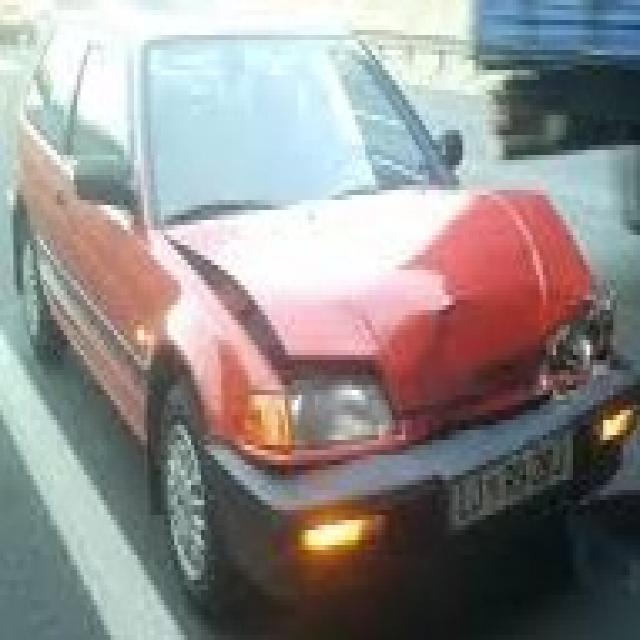minor: (157, 220, 330, 396), (510, 233, 629, 425)
